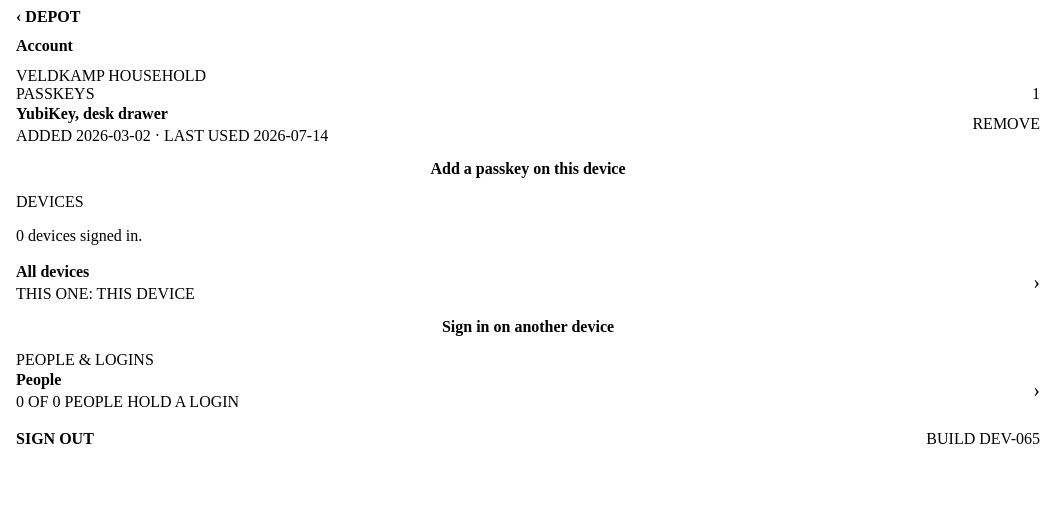
Test: Account › removes a passkey and drops it from the list
Check: the text "YubiKey, desk drawer" is shown, box [16,105,168,122]
Click the button "REMOVE".
click(1006, 124)  # box [972,112,1040,136]
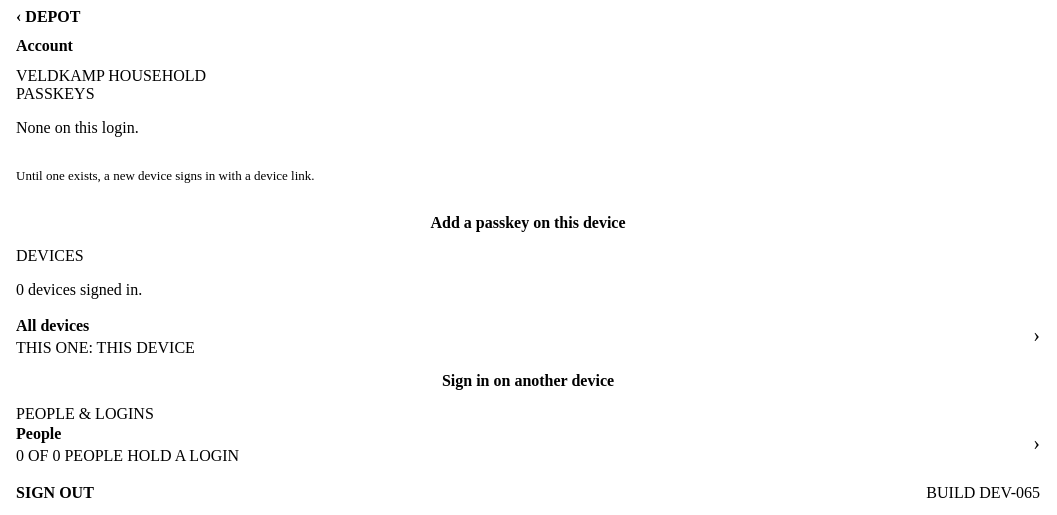
Check: the text "None on this login." is shown, box [16,119,139,136]
Check: the text "YubiKey, desk drawer" is gone
